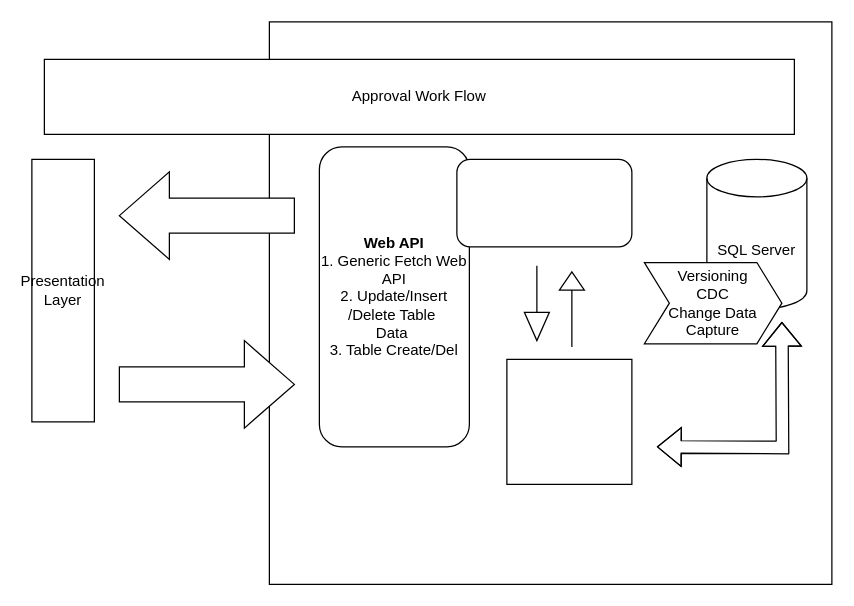
Some shapes in this 854 by 606 pixel diagram are drawn without their labels. The shapes that lost their labels are listed below. From the top down, each one's box as (x1, y1, x2, y2) in pixels, then its label:
(456, 158, 632, 247): Business Logic
(506, 358, 632, 484): 1.Light Weight ORM - Dapper 2. DBContext Data First
